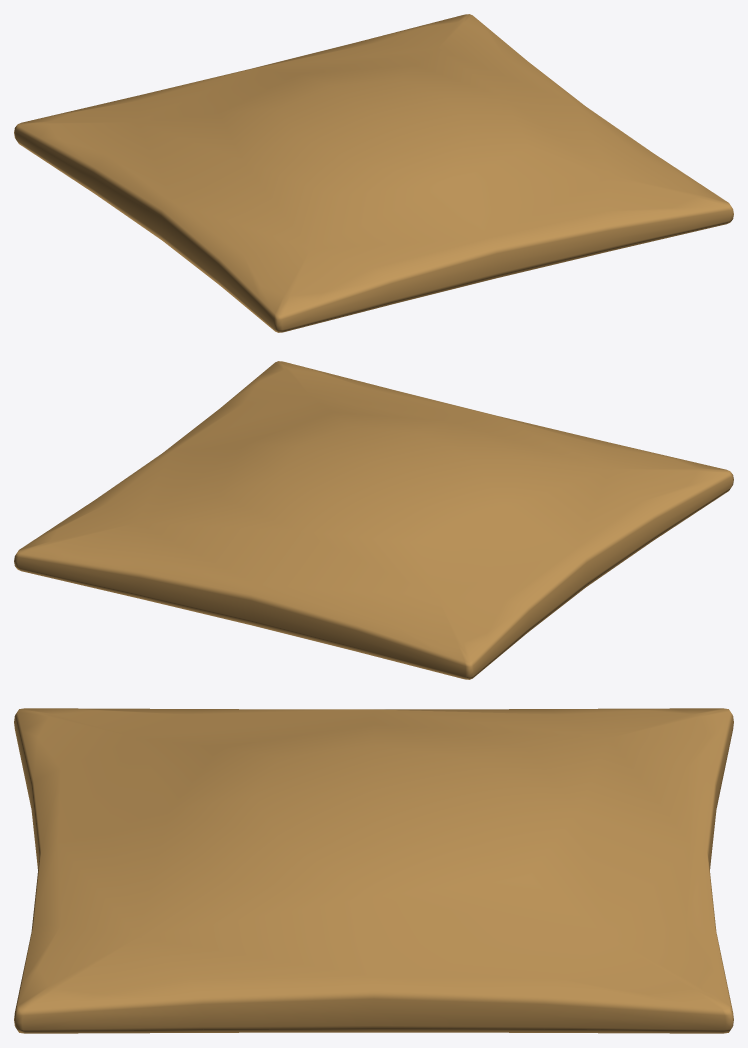
The model's file is coussin_carree_02.fbx.
The picture shows the model from 3 angles, top to bottom: view 1: azimuth 30°, elevation 25°; view 2: azimuth 150°, elevation 25°; view 3: azimuth 270°, elevation 25°; orthographic projection. The views are drawn at different scales.
Visible parts, largest first — view 1: pasted__pCube13; view 2: pasted__pCube13; view 3: pasted__pCube13.
Boxes of the visible parts, box(x1,y1,x2,y2) form: pasted__pCube13: box(14, 14, 733, 332); pasted__pCube13: box(14, 361, 733, 679); pasted__pCube13: box(14, 708, 733, 1033).
Size of the model in its own units: 2.76 by 0.6716 by 2.76.
